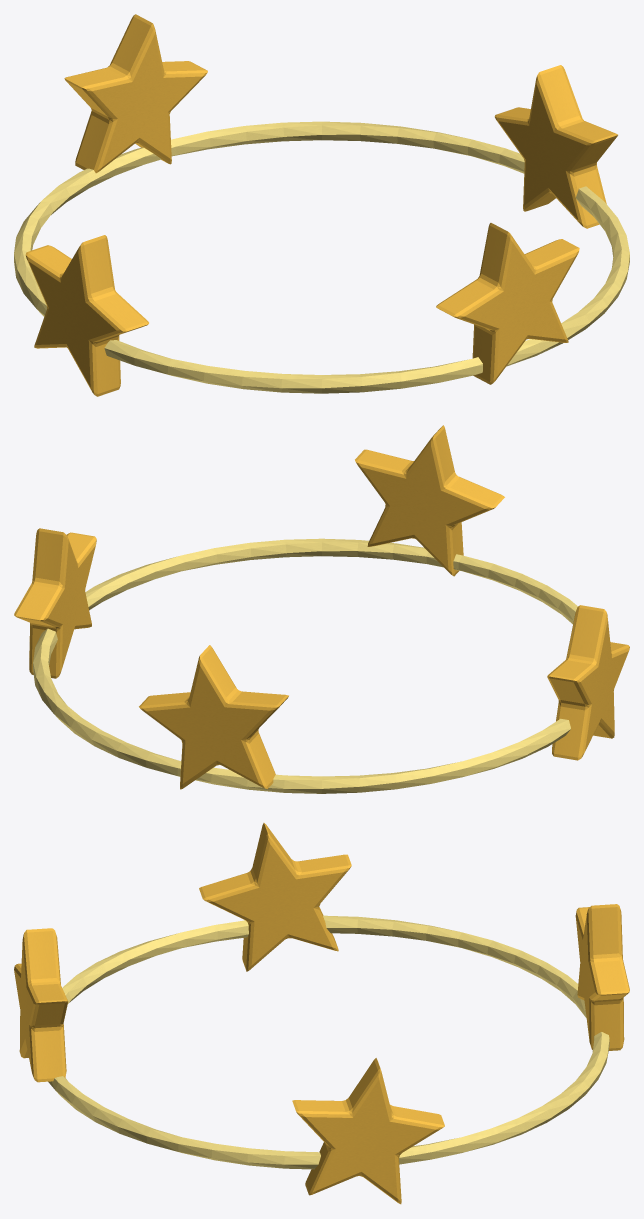
The model's file is Dazed_Stars.fbx.
3 renders of one model, top to bottom at view 1: azimuth 30°, elevation 25°; view 2: azimuth 150°, elevation 25°; view 3: azimuth 270°, elevation 25°, orthographic. The views are drawn at different scales.
Visible parts, largest first — view 1: Handle, Dazed_Stars__Star2__gold, Dazed_Stars__Star4__gold, Dazed_Stars__Star3__gold, Dazed_Stars__Star1__gold; view 2: Handle, Dazed_Stars__Star2__gold, Dazed_Stars__Star4__gold, Dazed_Stars__Star3__gold, Dazed_Stars__Star1__gold; view 3: Handle, Dazed_Stars__Star1__gold, Dazed_Stars__Star3__gold, Dazed_Stars__Star4__gold, Dazed_Stars__Star2__gold.
Boxes of the visible parts, bbox=[...] form: Handle: bbox=[14, 121, 629, 393]; Dazed_Stars__Star2__gold: bbox=[64, 14, 207, 173]; Dazed_Stars__Star4__gold: bbox=[436, 223, 579, 384]; Dazed_Stars__Star3__gold: bbox=[25, 235, 148, 396]; Dazed_Stars__Star1__gold: bbox=[494, 65, 617, 228]; Handle: bbox=[33, 538, 577, 793]; Dazed_Stars__Star2__gold: bbox=[139, 645, 288, 789]; Dazed_Stars__Star4__gold: bbox=[355, 425, 504, 576]; Dazed_Stars__Star3__gold: bbox=[547, 605, 629, 760]; Dazed_Stars__Star1__gold: bbox=[14, 528, 96, 678]; Handle: bbox=[48, 915, 609, 1169]; Dazed_Stars__Star1__gold: bbox=[292, 1058, 444, 1204]; Dazed_Stars__Star3__gold: bbox=[199, 823, 351, 971]; Dazed_Stars__Star4__gold: bbox=[14, 928, 68, 1082]; Dazed_Stars__Star2__gold: bbox=[575, 904, 629, 1050].
Bounding box in the file's own units: 1.75 × 0.5232 × 1.76.
2 materials, 2 textured.
